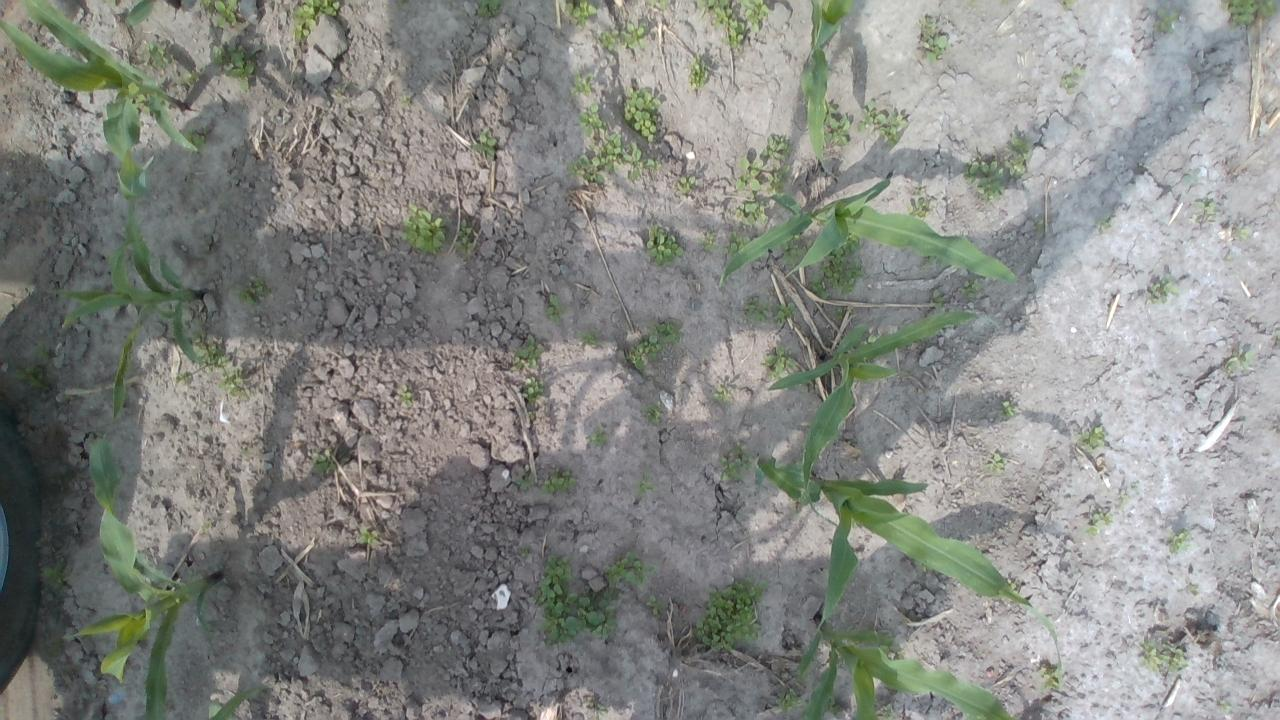Maize: (758, 465, 1066, 690), (70, 436, 220, 720), (768, 313, 978, 504), (0, 0, 199, 201), (61, 158, 206, 422), (720, 172, 1020, 291), (796, 611, 1017, 720), (802, 0, 852, 168), (204, 683, 262, 720), (126, 0, 180, 27)
Weeds: (696, 576, 766, 654), (533, 553, 580, 649), (810, 233, 864, 301), (626, 317, 680, 371), (856, 98, 910, 146), (695, 0, 745, 50), (621, 86, 664, 144), (402, 204, 448, 257), (210, 45, 258, 94), (604, 550, 656, 592), (960, 156, 1004, 204), (580, 588, 618, 640), (292, 0, 341, 39), (1139, 638, 1189, 674), (1223, 0, 1280, 31), (644, 224, 684, 267), (914, 14, 949, 61), (190, 333, 230, 372), (624, 142, 660, 182), (821, 102, 850, 147), (718, 448, 754, 483), (218, 365, 250, 402), (234, 275, 272, 306), (598, 132, 626, 174), (512, 334, 544, 370), (1004, 134, 1030, 178), (734, 155, 764, 193), (567, 154, 605, 184), (766, 346, 799, 380), (576, 103, 608, 137), (739, 0, 770, 35), (200, 0, 238, 28), (1147, 276, 1181, 305), (39, 564, 71, 594), (563, 0, 596, 29), (139, 41, 171, 70), (686, 56, 711, 92), (1077, 425, 1105, 457), (541, 471, 578, 495), (782, 233, 808, 267), (1080, 513, 1116, 537), (735, 203, 770, 227), (722, 230, 751, 258), (542, 292, 568, 322), (454, 218, 474, 256), (760, 134, 789, 160), (1037, 666, 1064, 693), (621, 22, 647, 50), (472, 132, 498, 160), (12, 366, 45, 388), (1191, 198, 1217, 225), (910, 186, 930, 220), (775, 688, 801, 714), (1156, 8, 1182, 34), (742, 296, 768, 321), (181, 128, 208, 152), (768, 165, 791, 193), (1169, 529, 1194, 554), (312, 450, 338, 474), (773, 303, 800, 326), (958, 279, 987, 300), (642, 400, 664, 426), (570, 72, 594, 95), (920, 255, 950, 273), (1225, 351, 1255, 369), (173, 66, 200, 86), (574, 326, 598, 348), (30, 339, 51, 363), (634, 473, 654, 497), (698, 230, 718, 252), (599, 30, 619, 52), (874, 702, 898, 720), (1059, 76, 1078, 98), (357, 526, 378, 545), (644, 594, 662, 616), (480, 0, 502, 18), (858, 328, 879, 346), (525, 376, 544, 395), (825, 697, 841, 719), (712, 384, 732, 401), (676, 175, 696, 192), (398, 384, 412, 408), (986, 454, 1004, 472), (930, 288, 946, 308), (644, 0, 670, 12), (174, 371, 194, 386), (590, 430, 608, 446), (1231, 224, 1248, 240), (1000, 400, 1015, 418), (1217, 700, 1232, 714), (1097, 219, 1114, 229), (1005, 580, 1017, 594), (138, 101, 152, 112), (1059, 0, 1076, 9), (1072, 66, 1087, 76), (1118, 490, 1128, 504), (836, 306, 846, 320), (1032, 220, 1044, 231), (518, 479, 530, 490), (159, 97, 170, 109), (332, 86, 348, 94), (398, 96, 412, 105), (597, 704, 607, 714), (1188, 584, 1198, 593), (517, 548, 528, 556)
